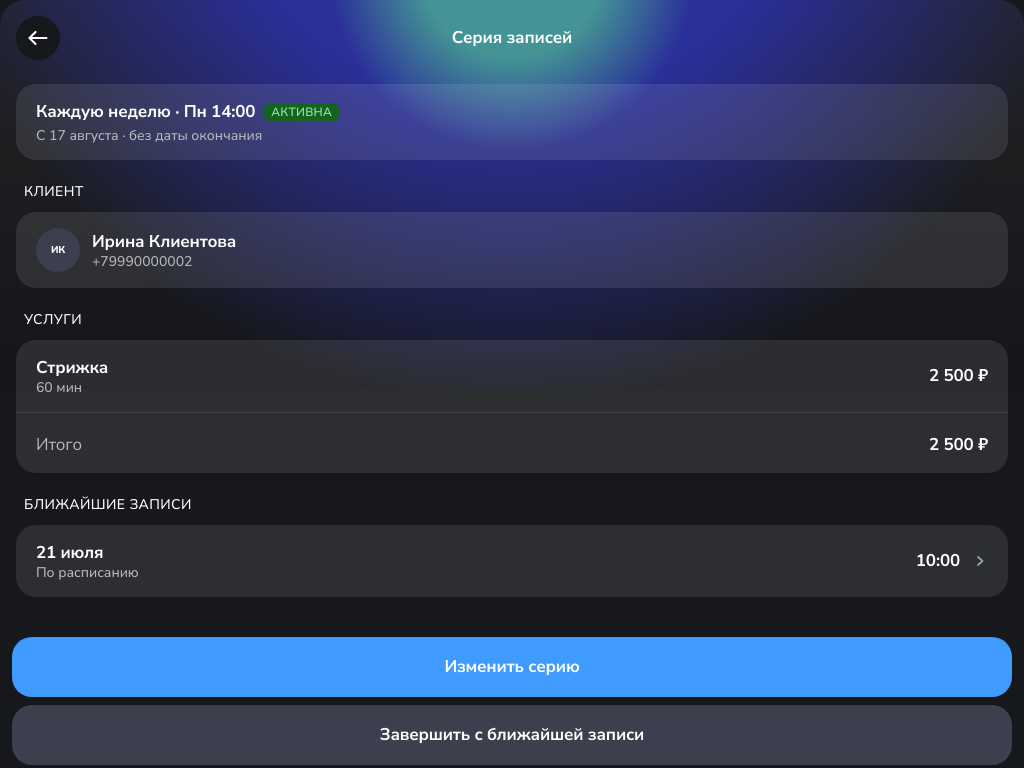
Test: BookingSeriesDetailPage cancellation flow › показывает network preview error и повторяет preview без потери scope
What coordinates should you click on to do the following:
click the button "Завершить с ближайшей записи"
I would click on:
 (512, 735)
Its box is [12,705,1012,765].
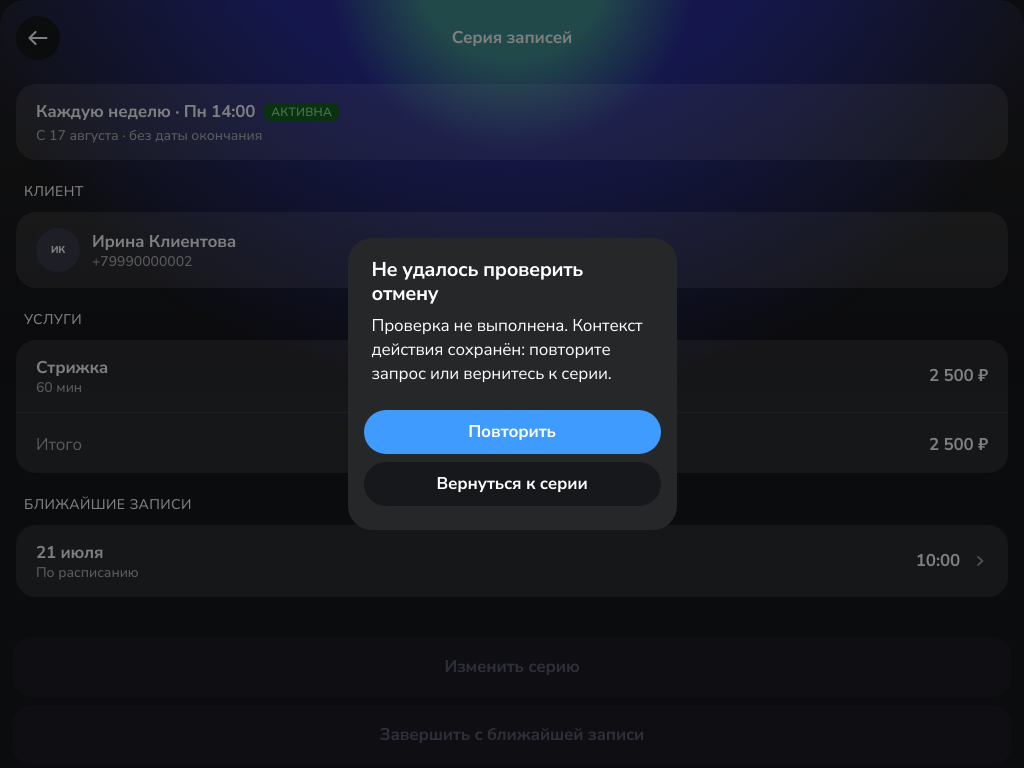
Check: the text "Не удалось проверить отмену" is shown, box [372,256,583,307]
Check: the text "Контекст действия сохранён" is shown, box [372,314,642,385]
Check: the button "Вернуться к серии" is shown, box [364,462,660,506]
What coordinates should you click on to do the following:
click the button "Повторить"
I would click on:
 (512, 432)
Its box is [364,410,660,454].
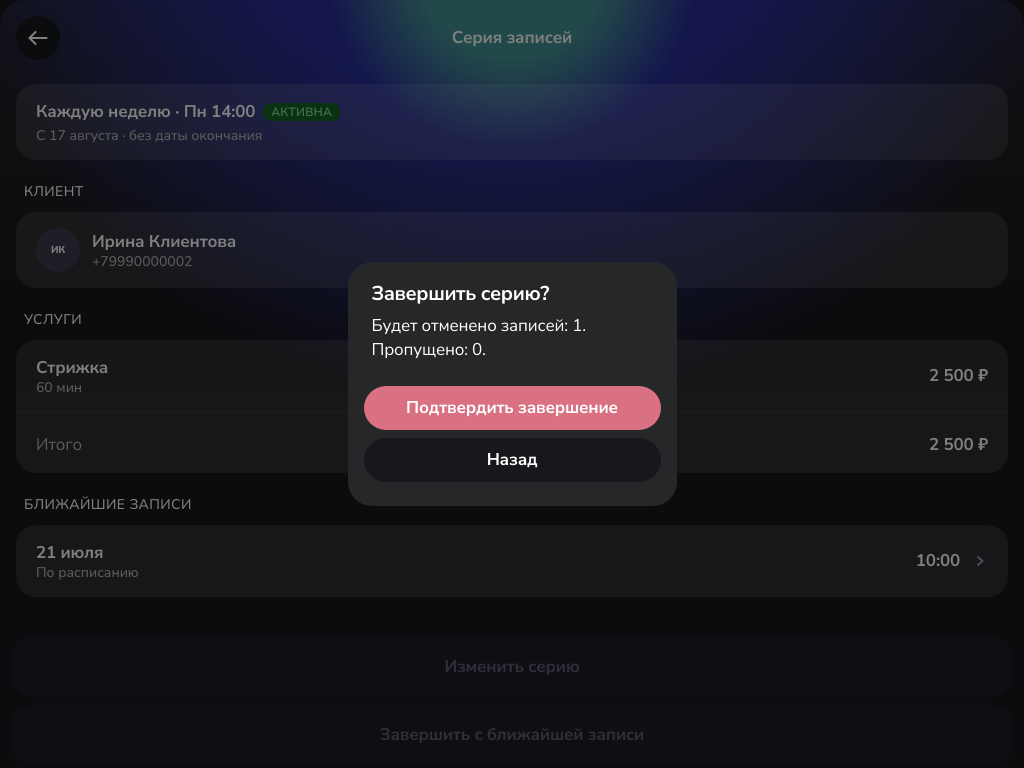
Check: the button "Подтвердить завершение" is shown, box [364,386,660,430]
